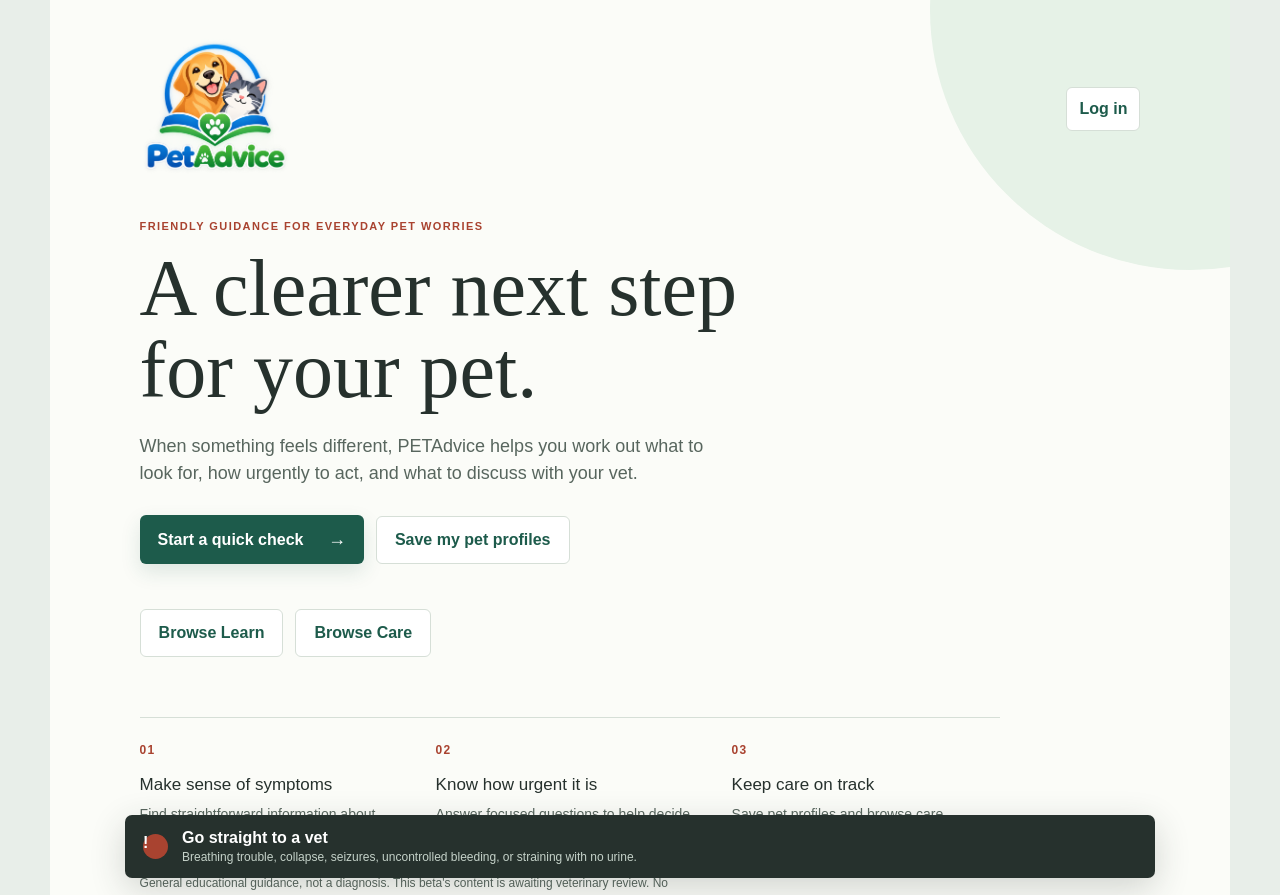
it: a guest capability follows answers and results and allows deletion
The width and height of the screenshot is (1280, 895).
Click the button "Start a quick check →" at (252, 540), box [140,515,364,564]
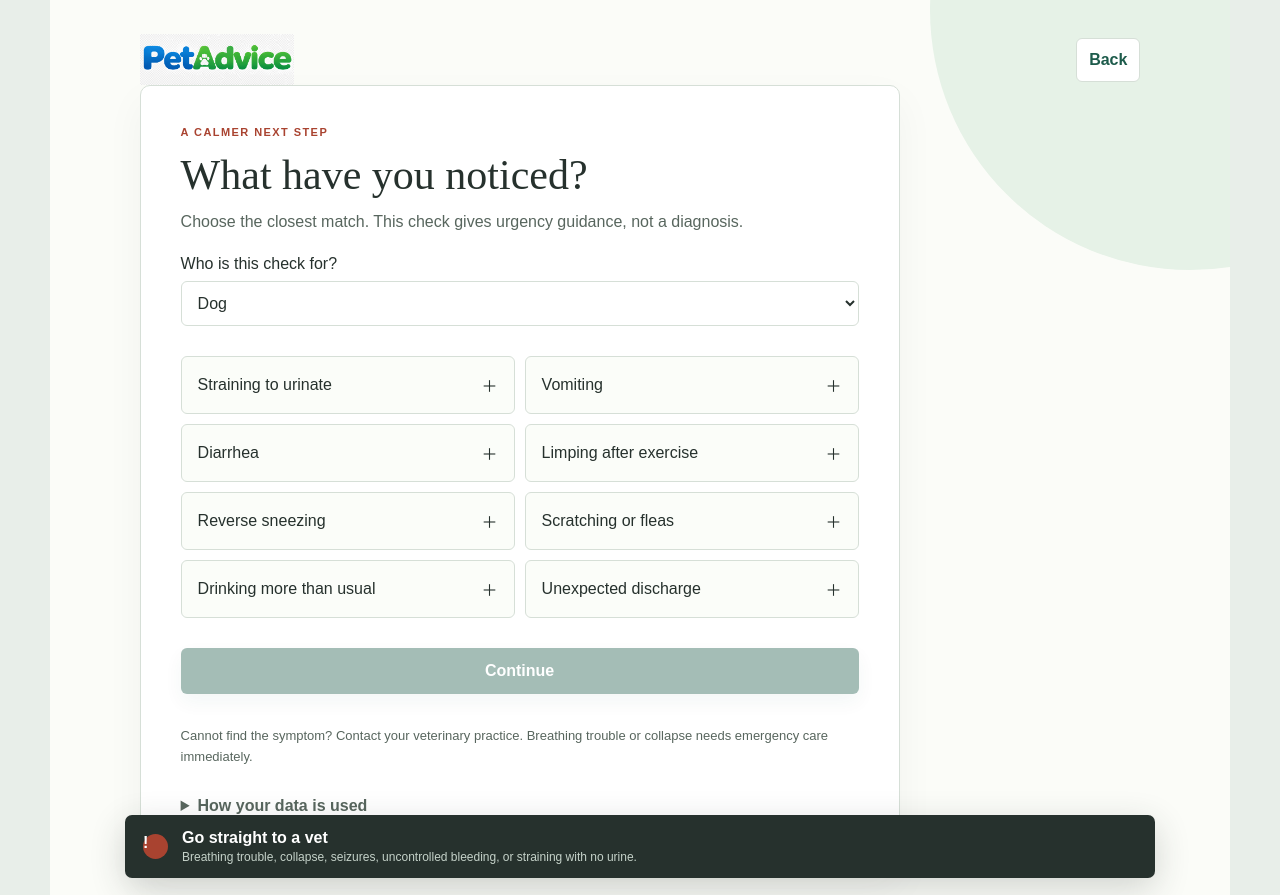
Click the button "Vomiting ＋" at (572, 385), box [525,356,859,414]
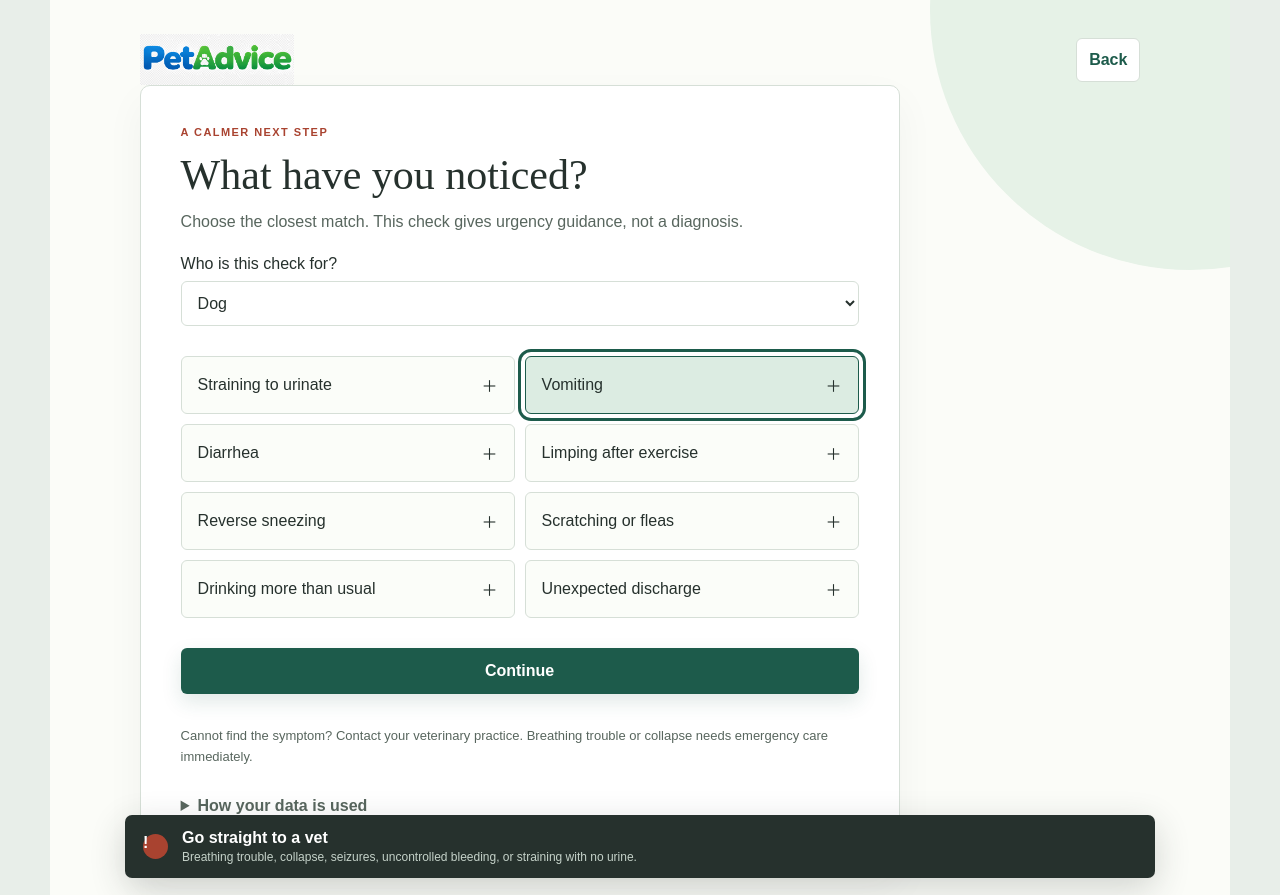
Click the button "Continue" at (520, 671), box [181,648,859,694]
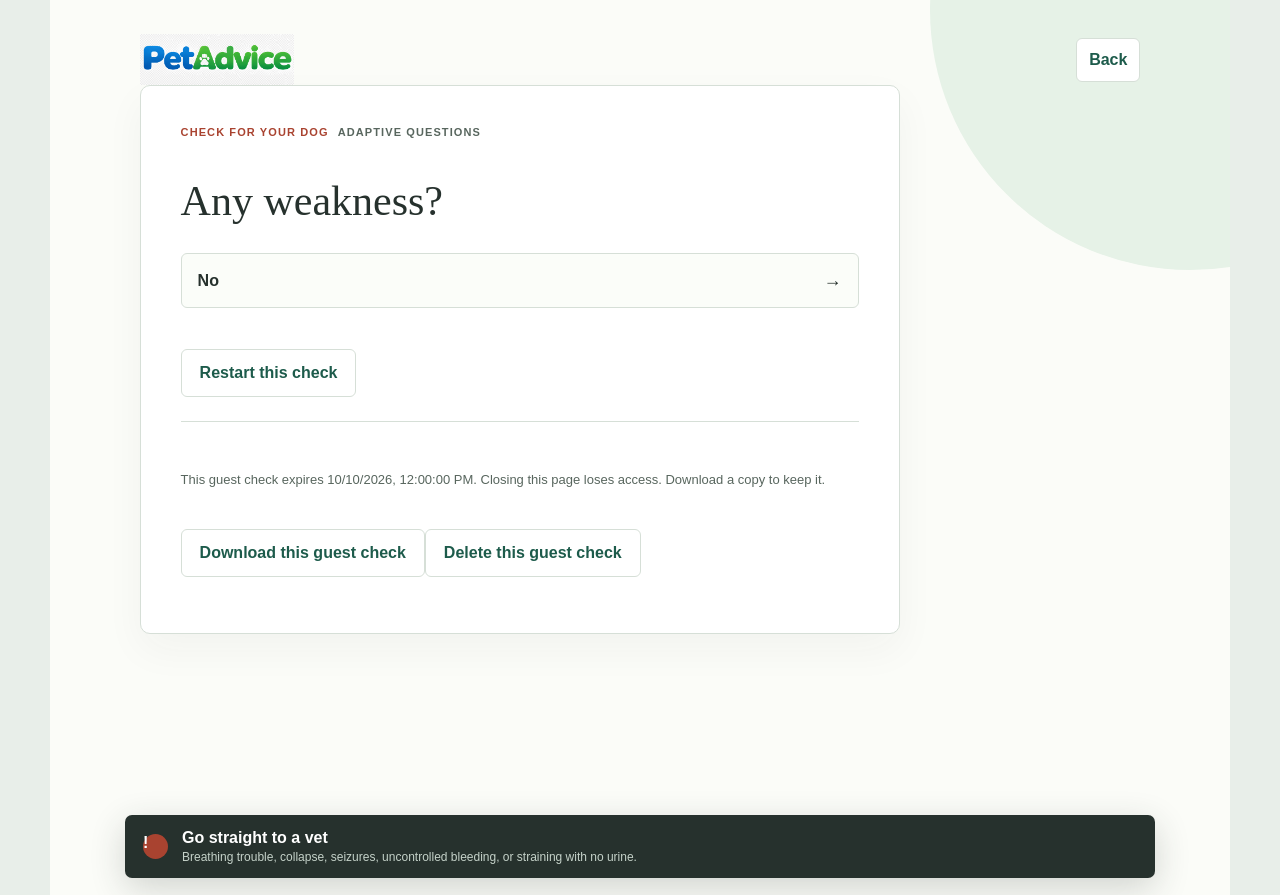
Click the button "No →" at (208, 280), box [181,253,859,308]
(page scrolled)
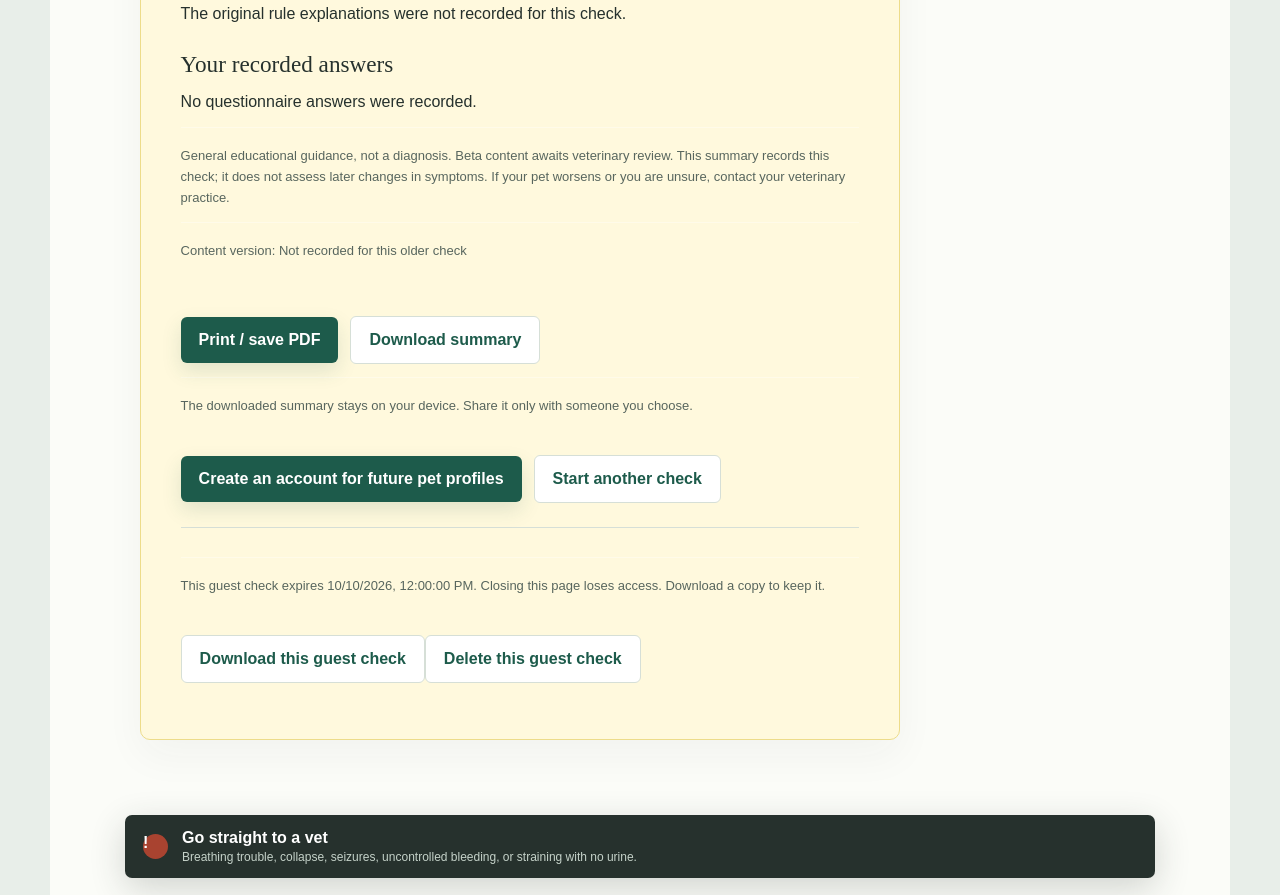
Click the button "Delete this guest check" at (533, 659), box [425,635,641,683]
(page scrolled)
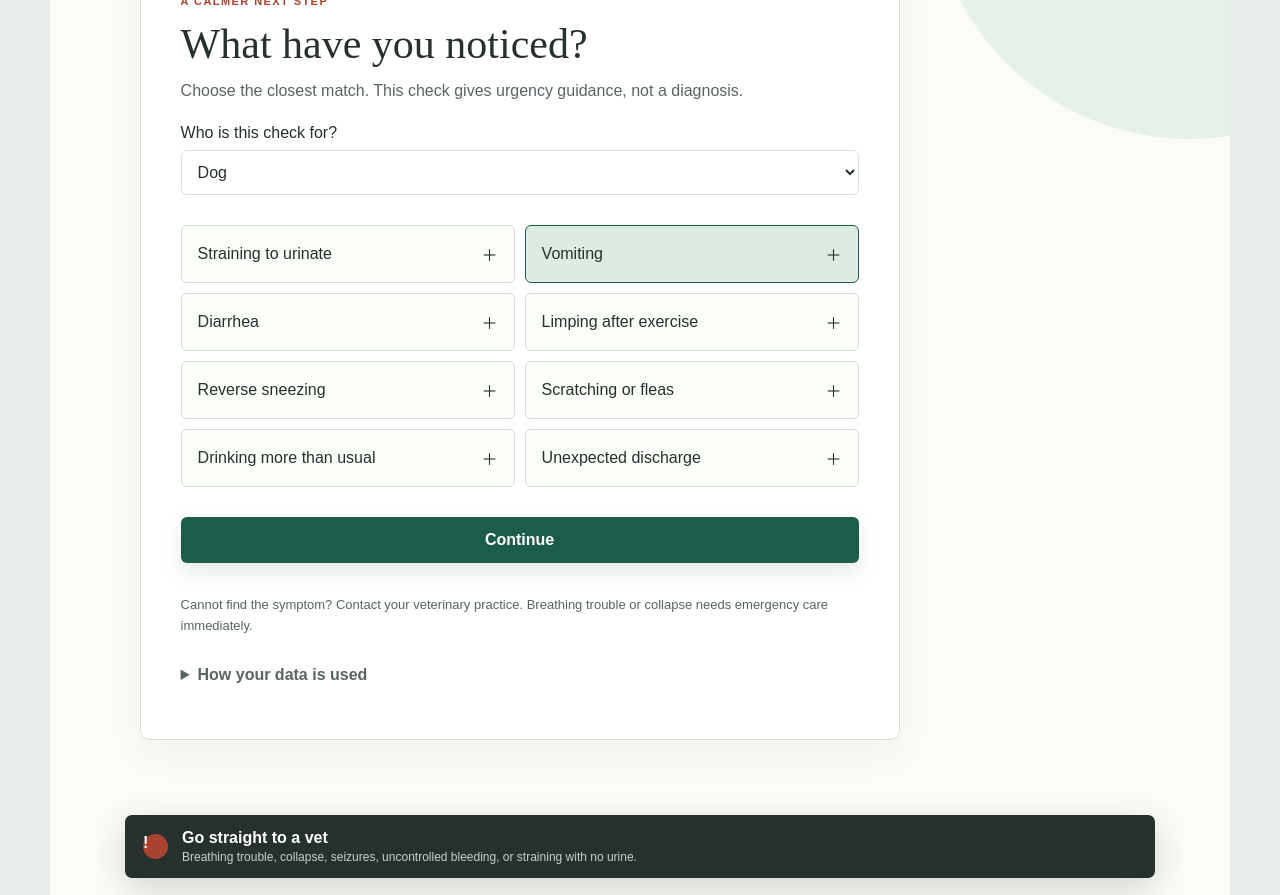
expect the heading "What have you noticed?" is shown: met, box [181,21,588,67]
